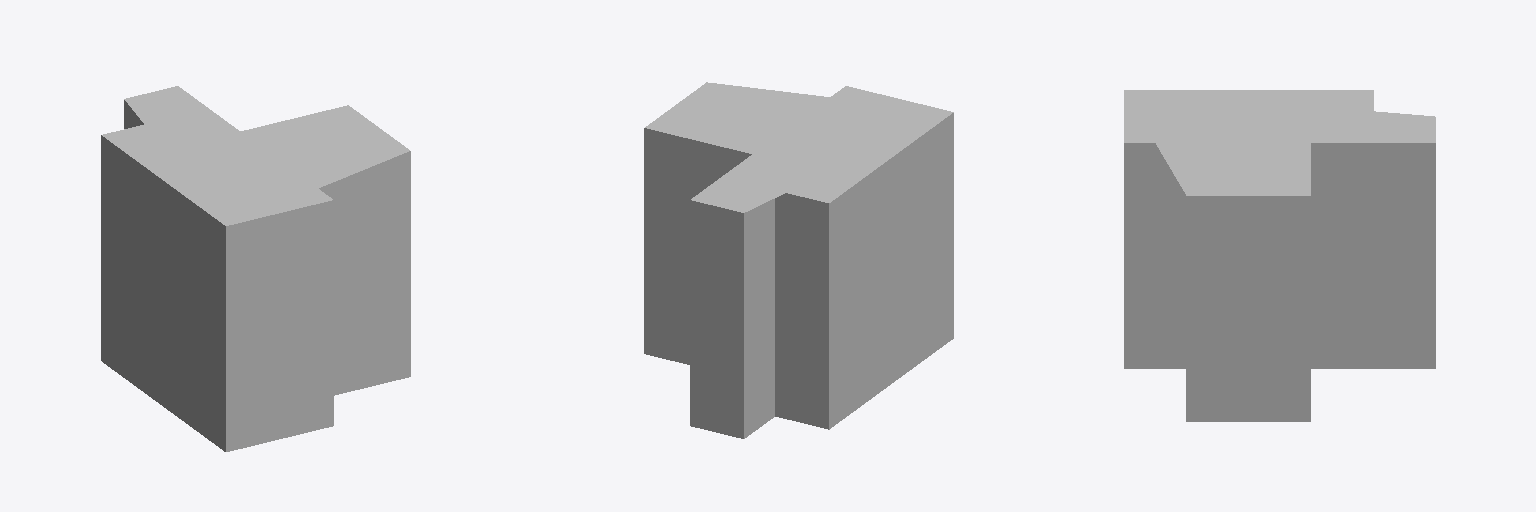
The model's file is Bulding #3 Hitbox.obj.
3 views of the same model, side by side, from view 1: azimuth 30°, elevation 25°; view 2: azimuth 150°, elevation 25°; view 3: azimuth 270°, elevation 25° (orthographic).
Parts seen in each view (by area): view 1: Base; view 2: Base; view 3: Base.
Boxes of the visible parts, <box> form: Base: <box>101,86,410,451</box>; Base: <box>644,82,953,438</box>; Base: <box>1124,90,1435,421</box>.
Bounding box in the file's own units: 4 × 4 × 5.